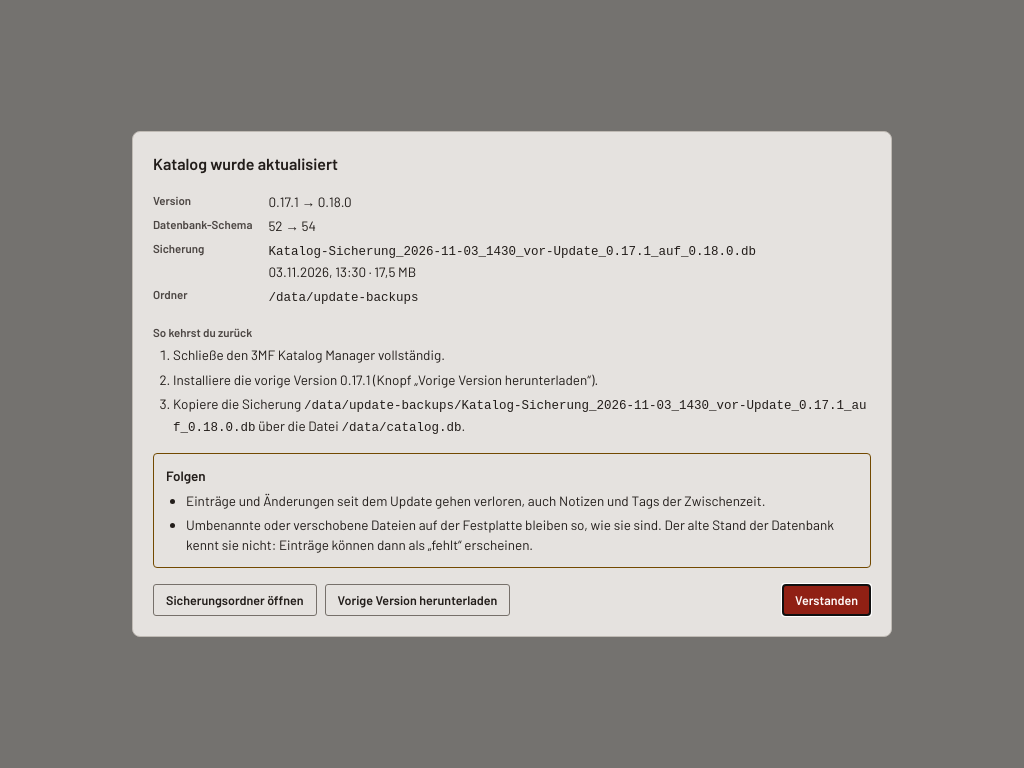
Scenario: UpgradeNoticeDialog › explains a missing backup folder in words and keeps the dialog open
This screenshot has width=1024, height=768.
Step 1. Click the button "Sicherungsordner öffnen" → (235, 600), box [153,584,317,616]
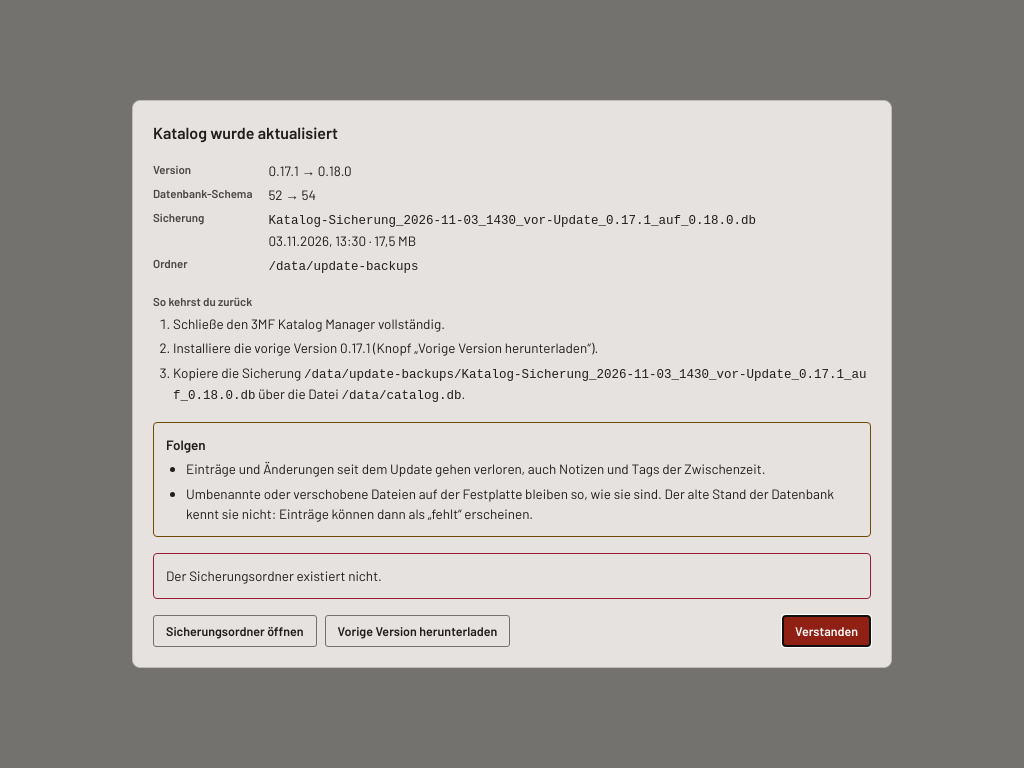
Expected: the dialog is shown, [132,100,892,668]
Expected: the text "Der Sicherungsordner existiert nicht." is shown, [166,567,382,584]
